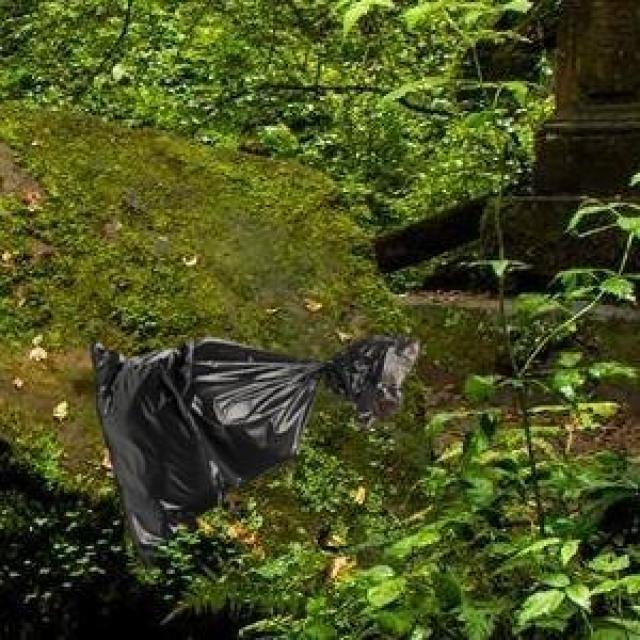miscellaneous trash: (86, 333, 414, 568)
